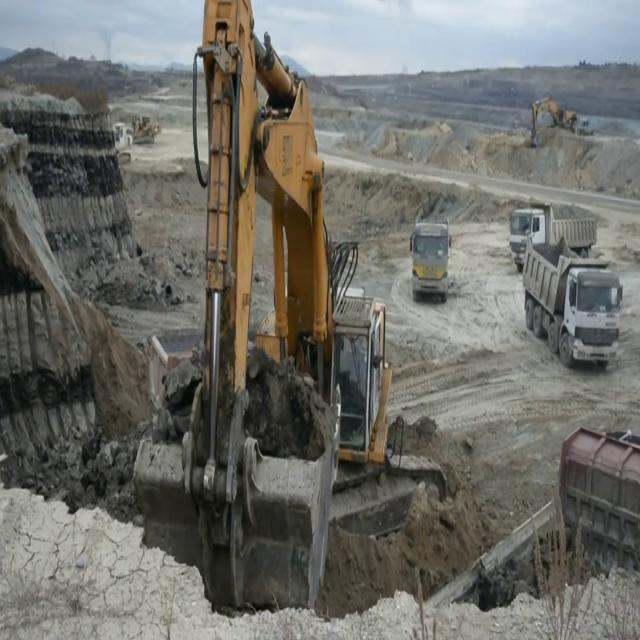excavator: (134, 1, 420, 607)
